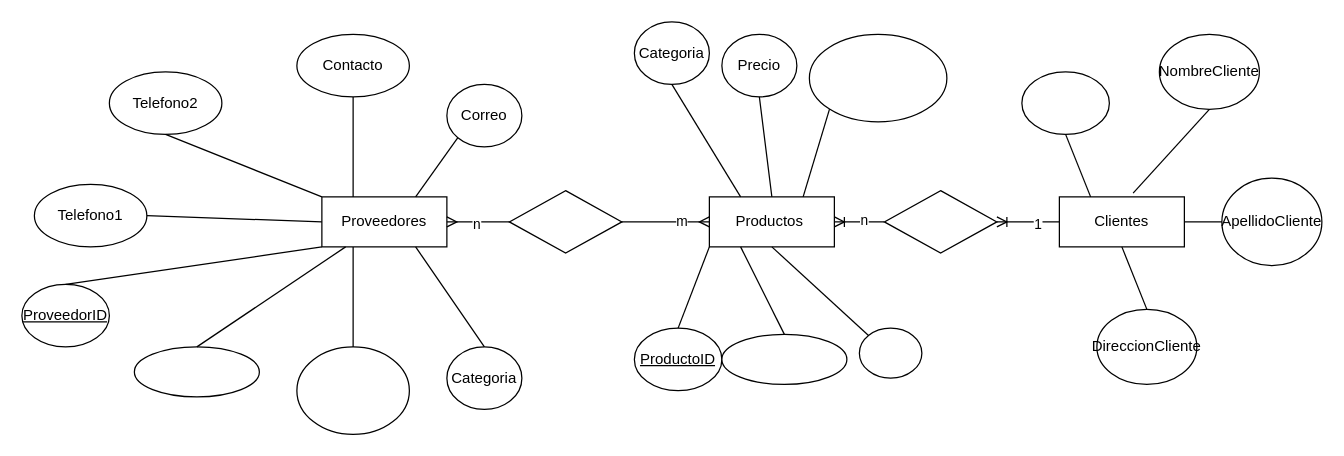
Some shapes in this 1344 by 456 pixel diagram are drawn without their labels. Each missing label, with the centre of its shape:
ClienteID: point (1065, 102)
Color: point (890, 352)
Compra: point (940, 221)
FK NombreCorpotativo: point (877, 77)
NombreCorporativo: point (352, 390)
NombreProducto: point (784, 358)
Representante: point (196, 371)
Suministran: point (565, 221)
